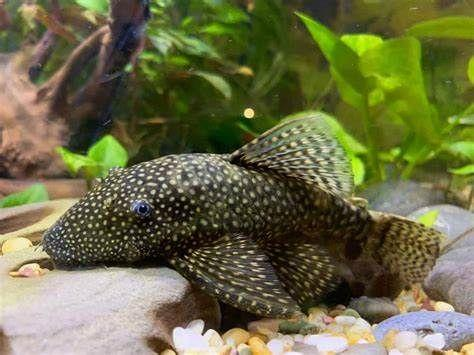Janitor Fish: (46, 118, 441, 312)
